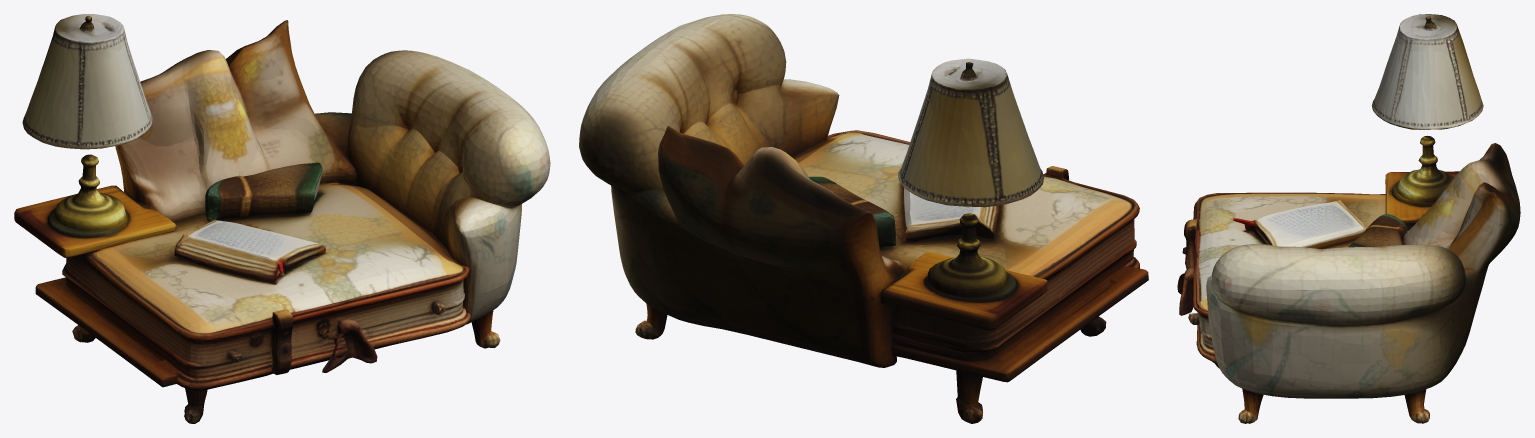
Rendered from recycled-paper-travel-journal-aged-hyperrealistic-furniture.jpeg.glb.
3 renders of one model, left to right at view 1: azimuth 30°, elevation 25°; view 2: azimuth 150°, elevation 25°; view 3: azimuth 270°, elevation 25°, orthographic. The views are drawn at different scales.
Parts seen in each view (by area): view 1: world; view 2: world; view 3: world.
Boxes of the visible parts, x1=… form: world: x1=14, y1=14, x2=550, y2=423; world: x1=579, y1=14, x2=1148, y2=423; world: x1=1177, y1=14, x2=1520, y2=423.
Bounding box in the file's own units: 0.9994 × 0.7313 × 0.8059.
1 material, 1 textured.
